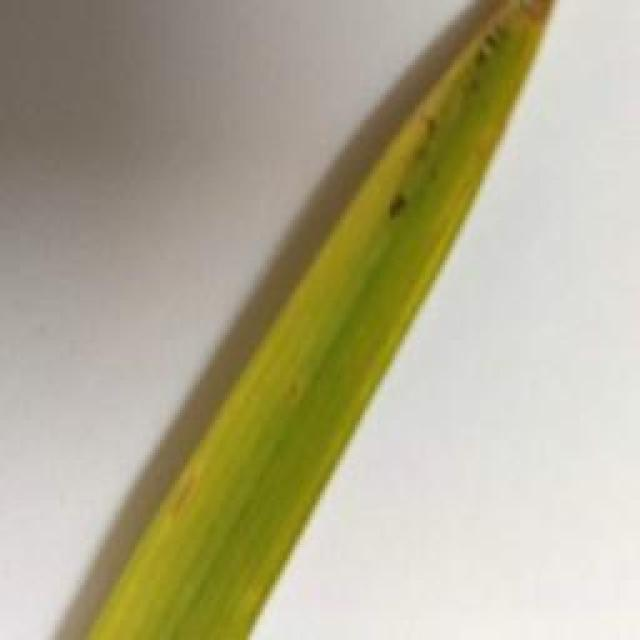Brown_Spot: (396, 81, 438, 172), (451, 24, 516, 82), (375, 183, 411, 229), (462, 53, 490, 112)
